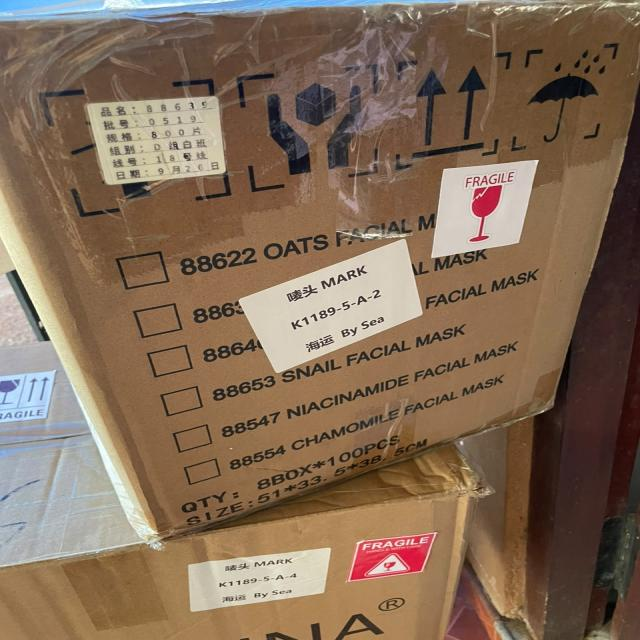carton_box: (0, 0, 640, 542)
export_mark_label: (233, 265, 431, 361), (178, 554, 328, 614)
fragile_label: (435, 161, 528, 252), (354, 526, 446, 589)
handle_with_care_label: (240, 76, 405, 184)
keep_dry_label: (524, 48, 610, 150)
this_side_up_label: (397, 55, 504, 159)
